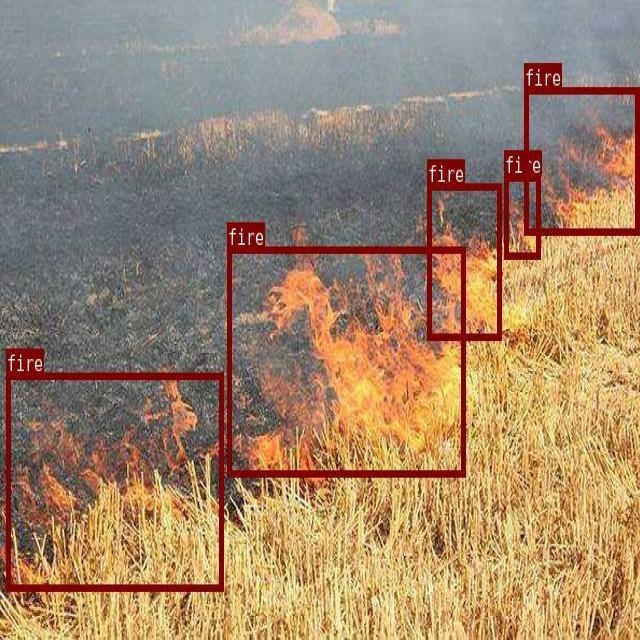fire: (227, 245, 465, 475), (6, 372, 222, 590), (523, 86, 638, 233), (426, 183, 501, 339), (503, 173, 539, 257)
